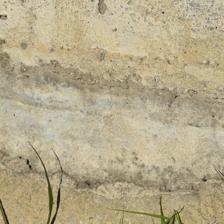Crack: (2, 75, 219, 128)
